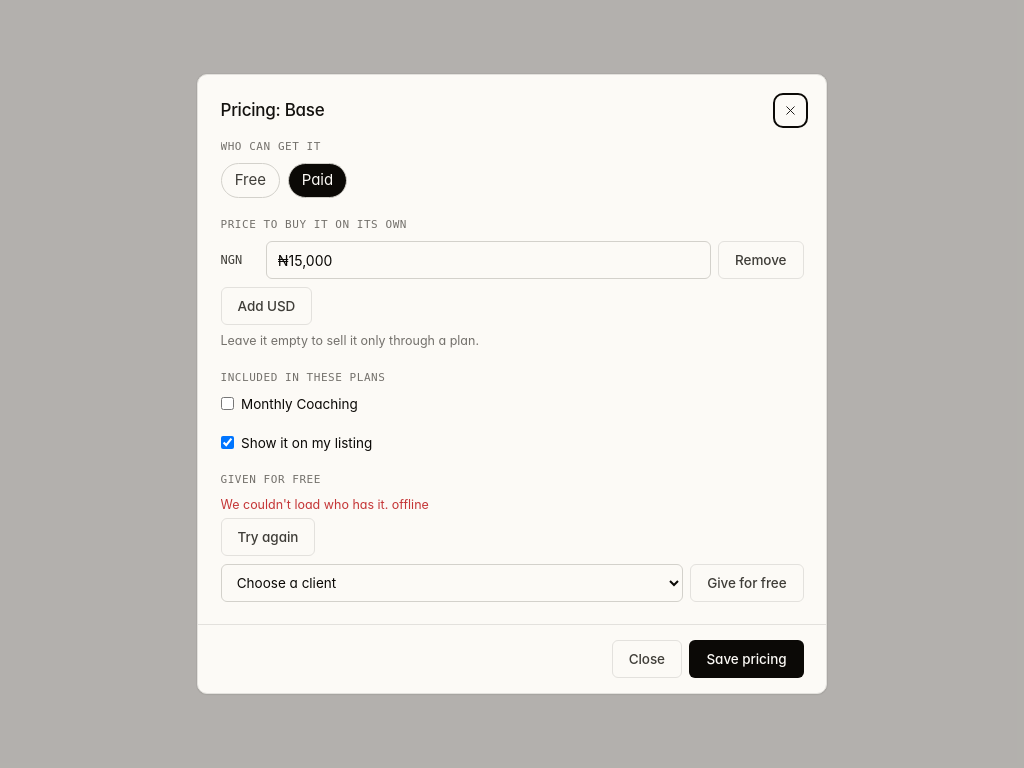
it: ContentPricingModal: unsaved edits, warnings, grants › shows an error with a retry, not 'nobody', when the grants fail to load
The width and height of the screenshot is (1024, 768).
Expected: the text "We couldn't load who has it. offline" is shown, [220,497,429,512]
Click the button "Try again".
click(268, 537)  # box [220,518,315,556]
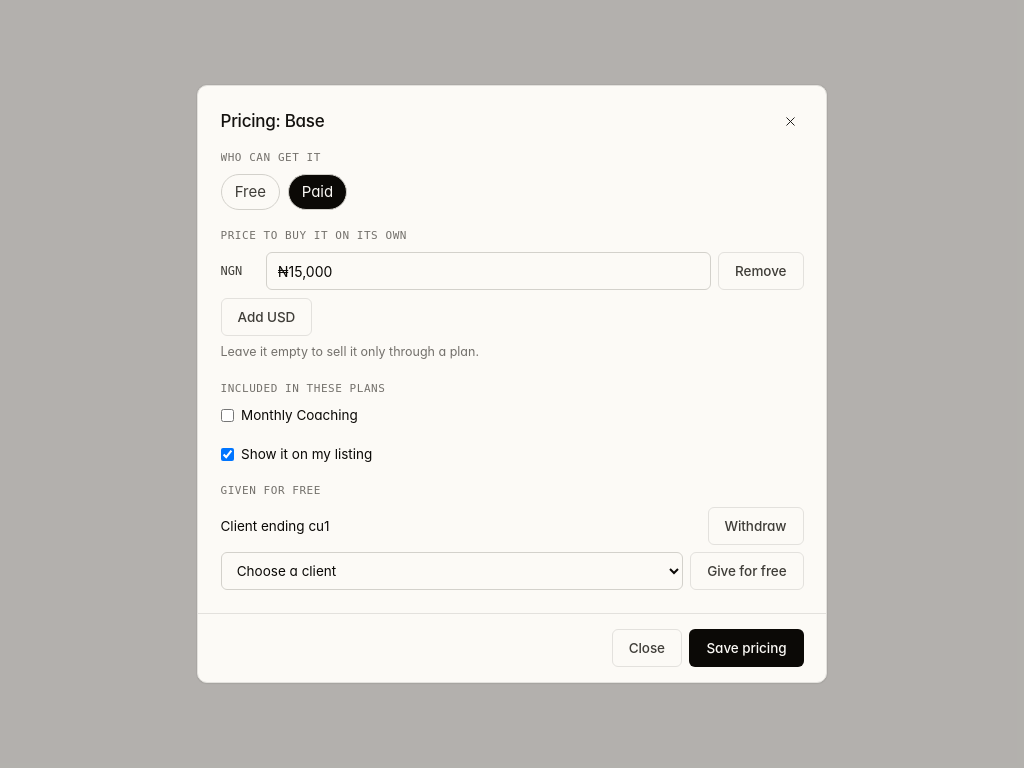
Expected: the list item "Client ending cu1" is shown, [220,518,330,534]
